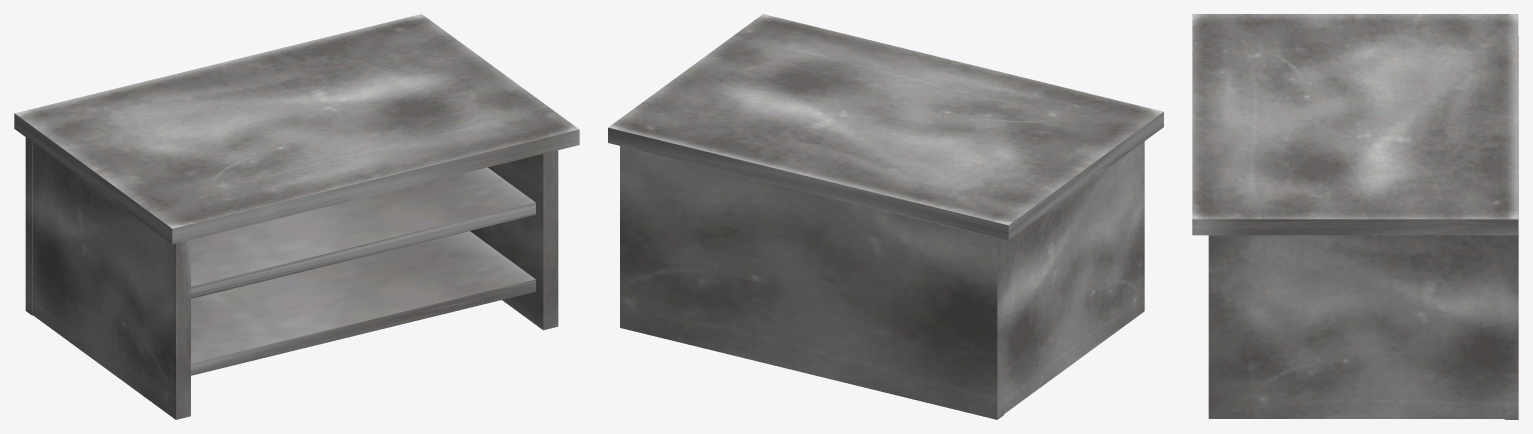
Rendered from mesadepreparacion.obj.
3 views of the same model, side by side, from view 1: azimuth 30°, elevation 25°; view 2: azimuth 150°, elevation 25°; view 3: azimuth 270°, elevation 25° (orthographic). The views are drawn at different scales.
Visible parts, largest first — view 1: polySurface16; view 2: polySurface16; view 3: polySurface16.
Boxes of the visible parts, x1=… form: polySurface16: x1=14, y1=14, x2=579, y2=419; polySurface16: x1=608, y1=14, x2=1163, y2=419; polySurface16: x1=1192, y1=14, x2=1518, y2=419.
Size of the model in its own units: 2.08 by 0.977 by 1.4.
Materials: 1 (1 with a texture image).
